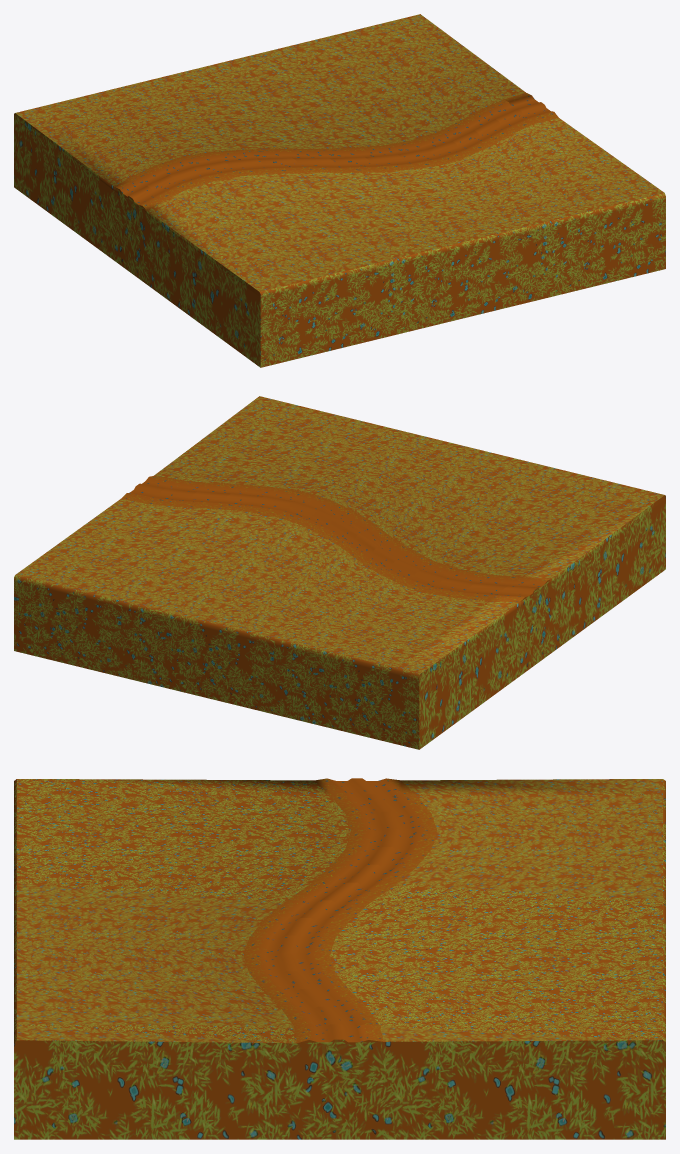
File: Road_grooves_curve .fbx
3 views of the same model, one above another, from view 1: azimuth 30°, elevation 25°; view 2: azimuth 150°, elevation 25°; view 3: azimuth 270°, elevation 25° (orthographic). The views are drawn at different scales.
Visible parts, largest first — view 1: Mesh_Path_Straight4; view 2: Mesh_Path_Straight4; view 3: Mesh_Path_Straight4.
Part boxes in pixels (x1=…): Mesh_Path_Straight4: x1=14, y1=14, x2=665, y2=367; Mesh_Path_Straight4: x1=14, y1=396, x2=665, y2=749; Mesh_Path_Straight4: x1=14, y1=778, x2=665, y2=1139.
Bounding box in the file's own units: 5588 × 995 × 5890.
